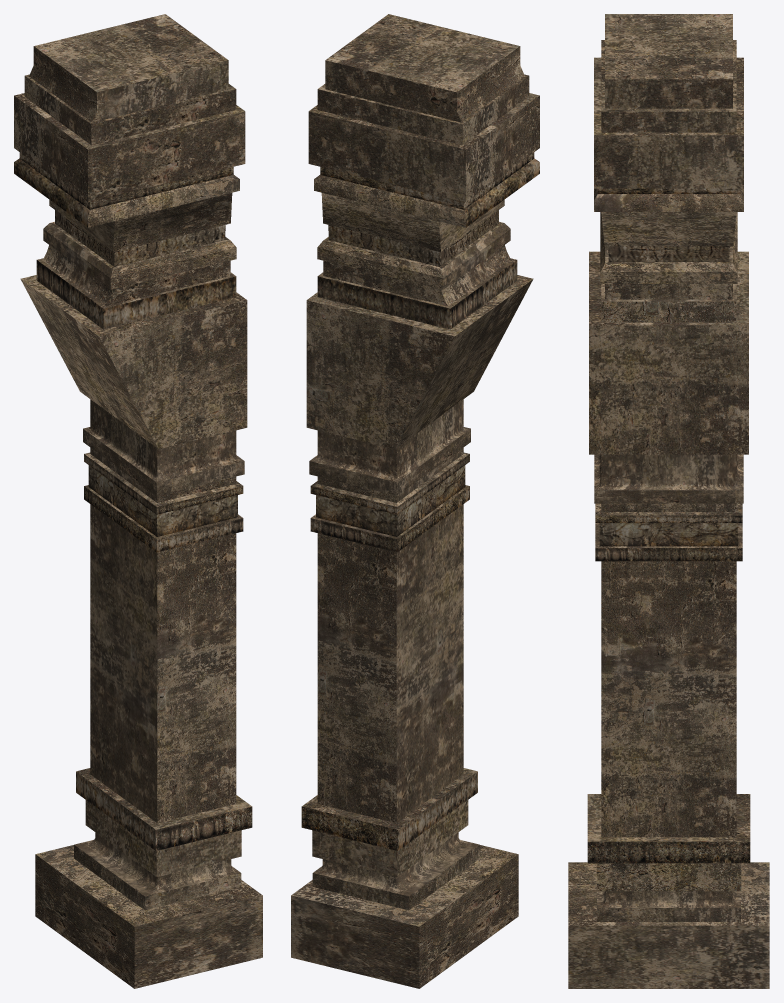
The model's file is materials_5_pillar_long_14.fbx.
The picture shows the model from 3 angles, left to right: view 1: azimuth 30°, elevation 25°; view 2: azimuth 150°, elevation 25°; view 3: azimuth 270°, elevation 25°; orthographic projection.
Parts seen in each view (by area): view 1: materials_5_pillar_long_14; view 2: materials_5_pillar_long_14; view 3: materials_5_pillar_long_14.
Boxes of the visible parts, x1=… form: materials_5_pillar_long_14: x1=14, y1=14, x2=262, y2=988; materials_5_pillar_long_14: x1=291, y1=14, x2=539, y2=988; materials_5_pillar_long_14: x1=568, y1=14, x2=769, y2=988.
Size of the model in its own units: 120 by 627 by 127.
